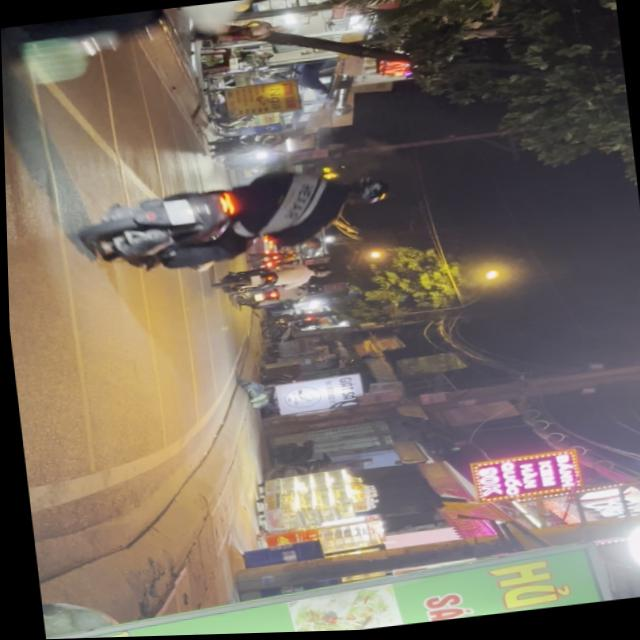helmet: (333, 173, 389, 209)
licenseplate: (72, 154, 404, 281)
nohelmet: (161, 197, 194, 226)
